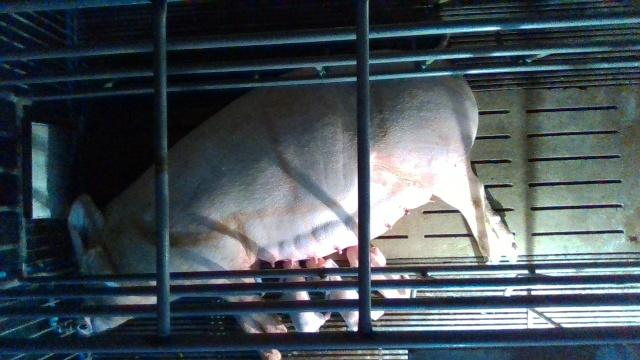piglet: (306, 257, 385, 332), (278, 260, 331, 333), (347, 244, 410, 298)
sow-sleep-lactate: (66, 50, 518, 360)
